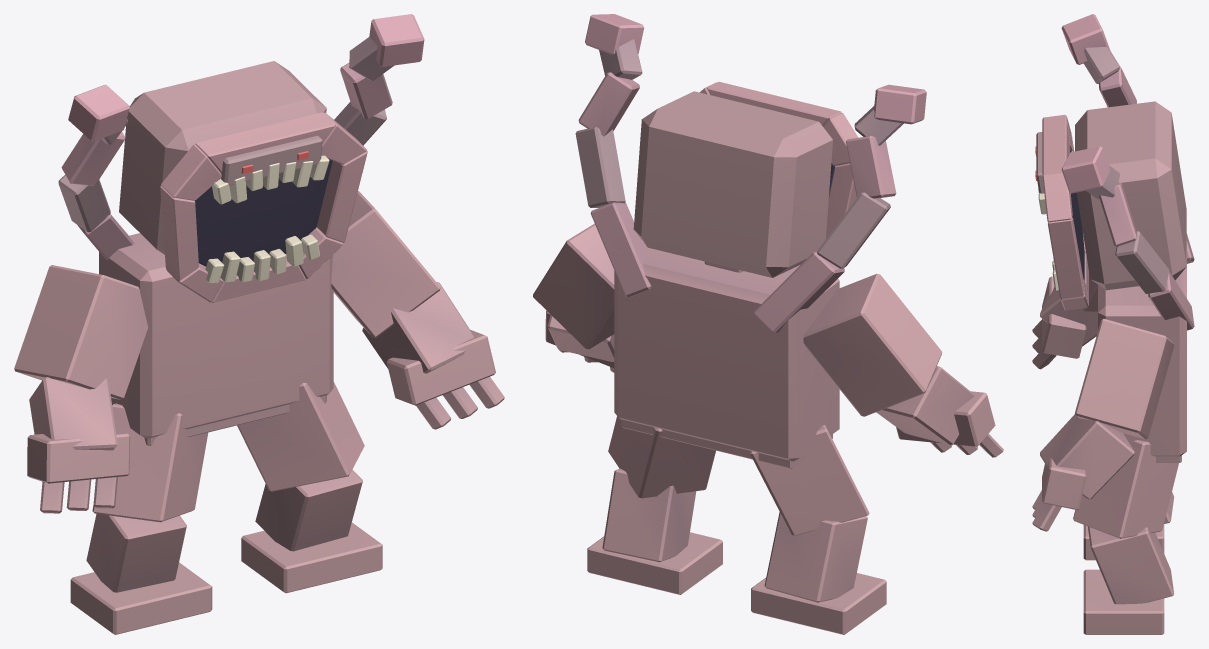
Rendered from Parasite_Proposed_sRGB.glb.
3 views of the same model, side by side, from view 1: azimuth 30°, elevation 25°; view 2: azimuth 150°, elevation 25°; view 3: azimuth 270°, elevation 25° (orthographic). The views are drawn at different scales.
Visible parts, largest first — view 1: Head.001, Body.001, ArmR.001, LegL.001, LegR.001, ArmL.001, TendrilR.001, TendrilL.001; view 2: Body.001, Head.001, ArmR.001, LegR.001, LegL.001, TendrilL.001, TendrilR.001, ArmL.001; view 3: Head.001, ArmL.001, LegL.001, TendrilL.001, Body.001, ArmR.001, TendrilR.001, LegR.001.
Boxes of the visible parts, x1=… form: Head.001: x1=119, y1=61, x2=367, y2=302; Body.001: x1=99, y1=233, x2=333, y2=445; ArmR.001: x1=14, y1=265, x2=148, y2=513; LegL.001: x1=237, y1=382, x2=382, y2=593; LegR.001: x1=70, y1=403, x2=212, y2=634; ArmL.001: x1=331, y1=191, x2=504, y2=429; TendrilR.001: x1=58, y1=84, x2=134, y2=260; TendrilL.001: x1=334, y1=14, x2=424, y2=145; Body.001: x1=614, y1=243, x2=839, y2=468; Head.001: x1=633, y1=81, x2=858, y2=277; ArmR.001: x1=803, y1=273, x2=1003, y2=457; LegR.001: x1=749, y1=425, x2=886, y2=634; LegL.001: x1=587, y1=416, x2=722, y2=594; TendrilL.001: x1=575, y1=14, x2=651, y2=297; TendrilR.001: x1=753, y1=84, x2=926, y2=332; ArmL.001: x1=533, y1=223, x2=643, y2=372; Head.001: x1=1036, y1=101, x2=1186, y2=310; ArmL.001: x1=1032, y1=318, x2=1173, y2=531; LegL.001: x1=1073, y1=440, x2=1178, y2=634; TendrilL.001: x1=1061, y1=146, x2=1194, y2=330; Body.001: x1=1098, y1=247, x2=1186, y2=462; ArmR.001: x1=1032, y1=273, x2=1097, y2=369; TendrilR.001: x1=1061, y1=14, x2=1194, y2=263; LegR.001: x1=1083, y1=492, x2=1174, y2=560.
Size of the model in its own units: 5.68 by 6.37 by 1.91.
